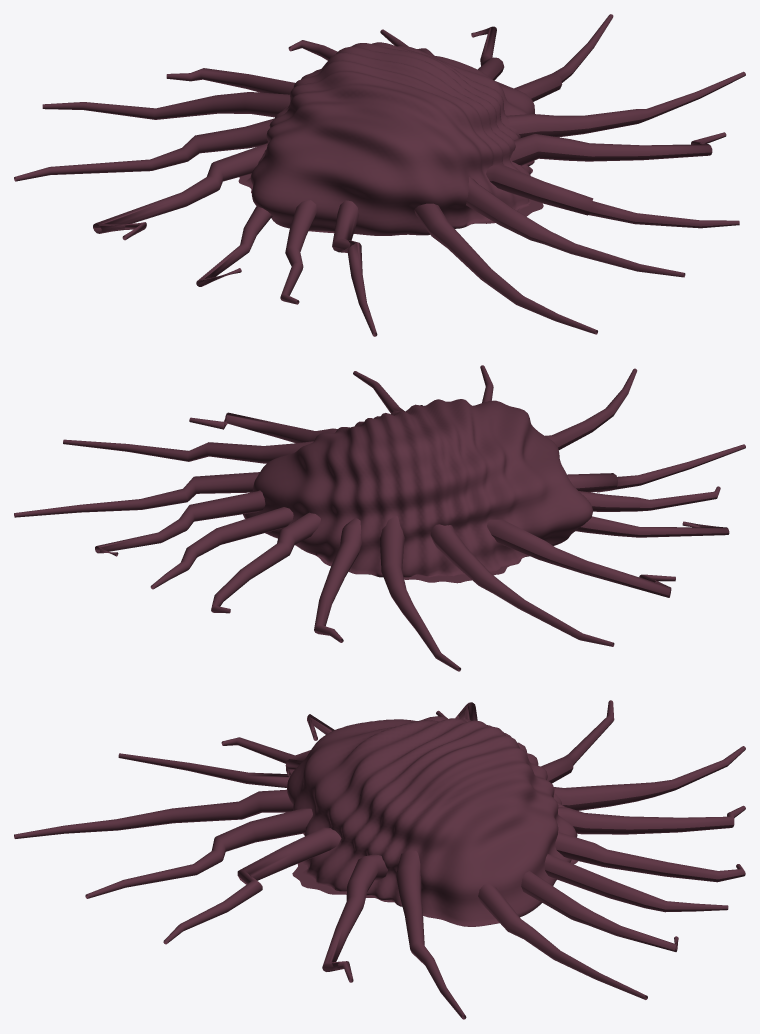
File: heart.glb
The picture shows the model from 3 angles, top to bottom: view 1: azimuth 30°, elevation 25°; view 2: azimuth 150°, elevation 25°; view 3: azimuth 270°, elevation 25°; orthographic projection. The views are drawn at different scales.
Visible parts, largest first — view 1: heart; view 2: heart; view 3: heart.
Part boxes in pixels (bbox=[...]): heart: bbox=[14, 14, 745, 336]; heart: bbox=[14, 365, 745, 671]; heart: bbox=[14, 700, 745, 1019].
Bounding box in the file's own units: 62.83 × 10.28 × 61.63.
